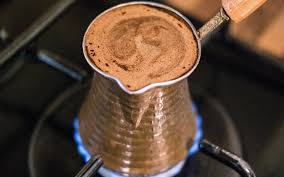kahve: (78, 1, 203, 177)
